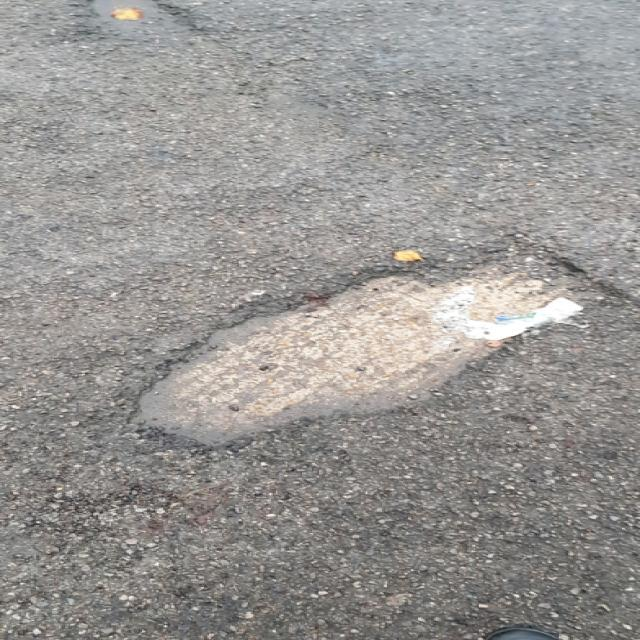pothole: (119, 238, 629, 452)
